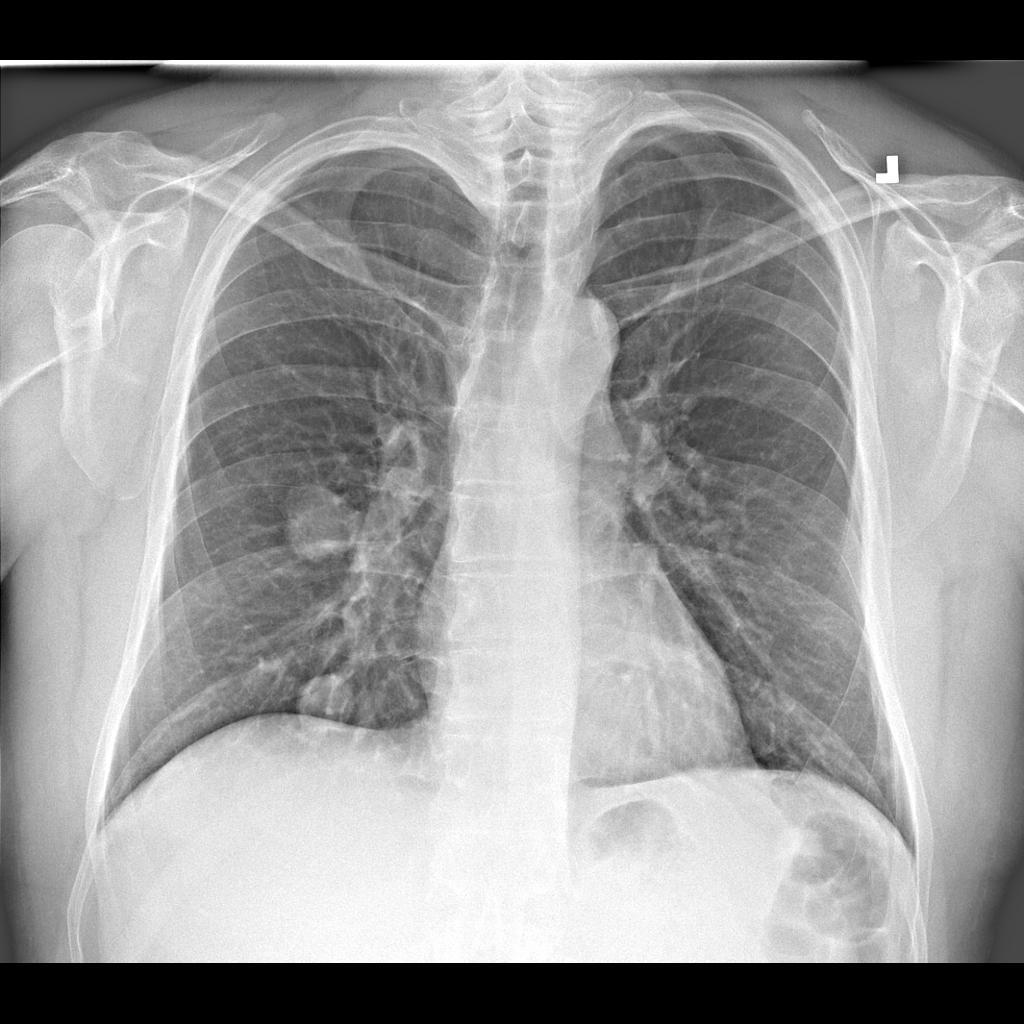Nodule: (278, 476, 367, 564), (298, 666, 359, 738)
